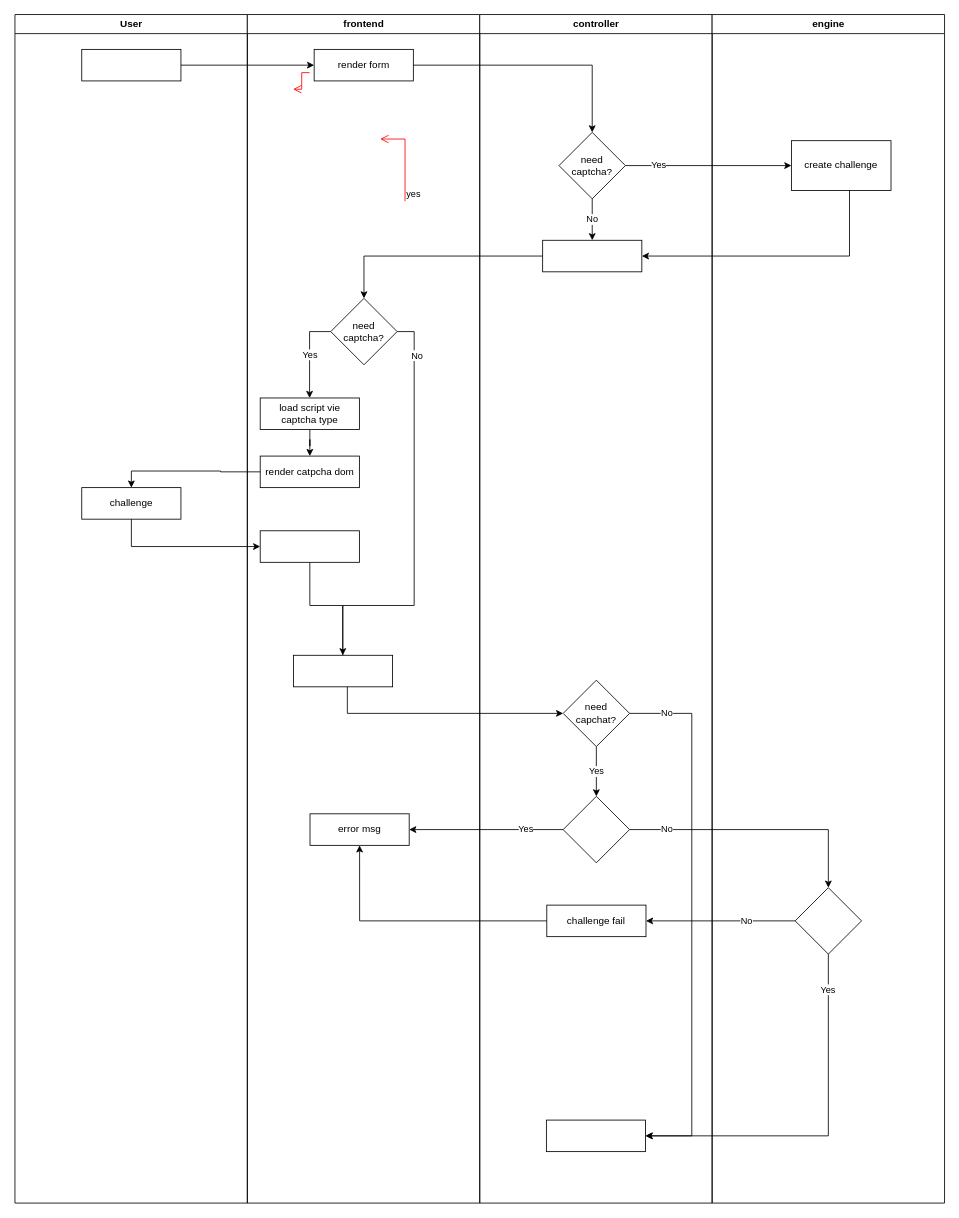
The diagram is 959 pixels wide and 1218 high, and some of its shapes have lost their labels. Each missing label, with the centre of its shape:
"challenge data empty?" belongs at (596,829).
"challenge success" belongs at (596,1135).
"fill challenge data" belongs at (309,546).
"render view data" belongs at (592,255).
"response success?" belongs at (828,920).
"submit" belongs at (343,670).
"visit page" belongs at (131,65).
